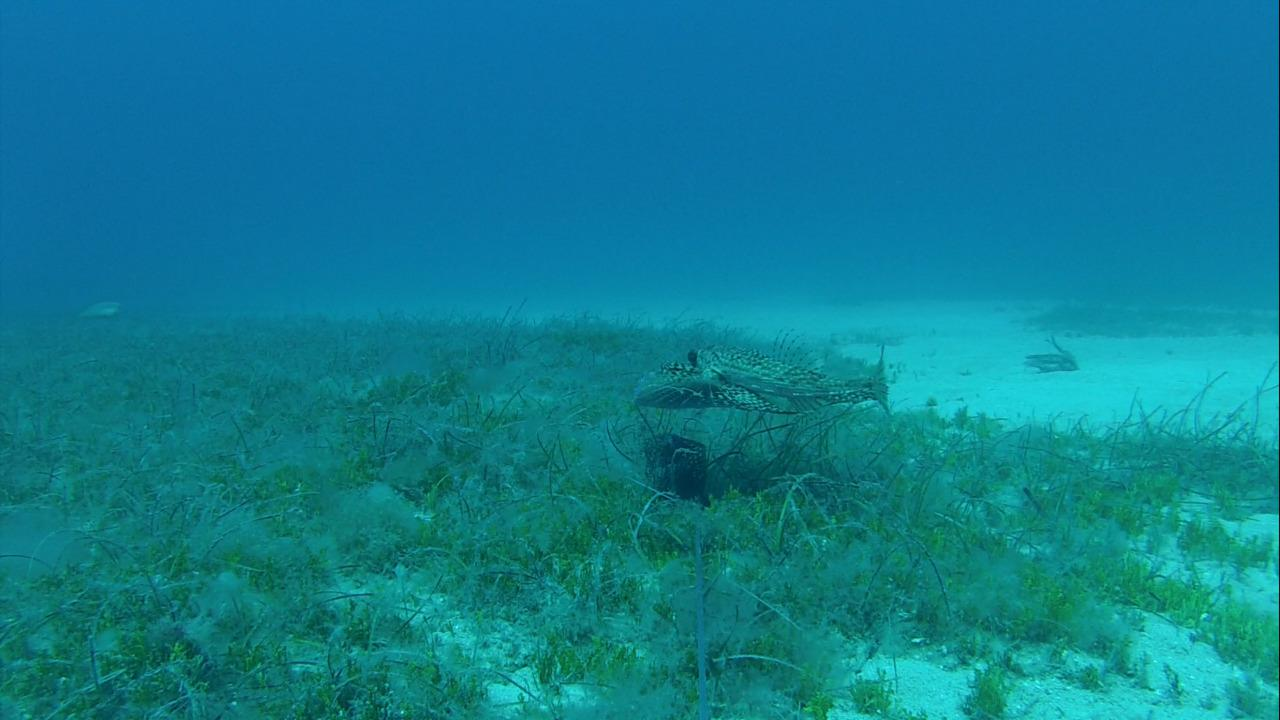dactylopterus: (657, 333, 899, 416)
raor: (70, 297, 122, 323)
